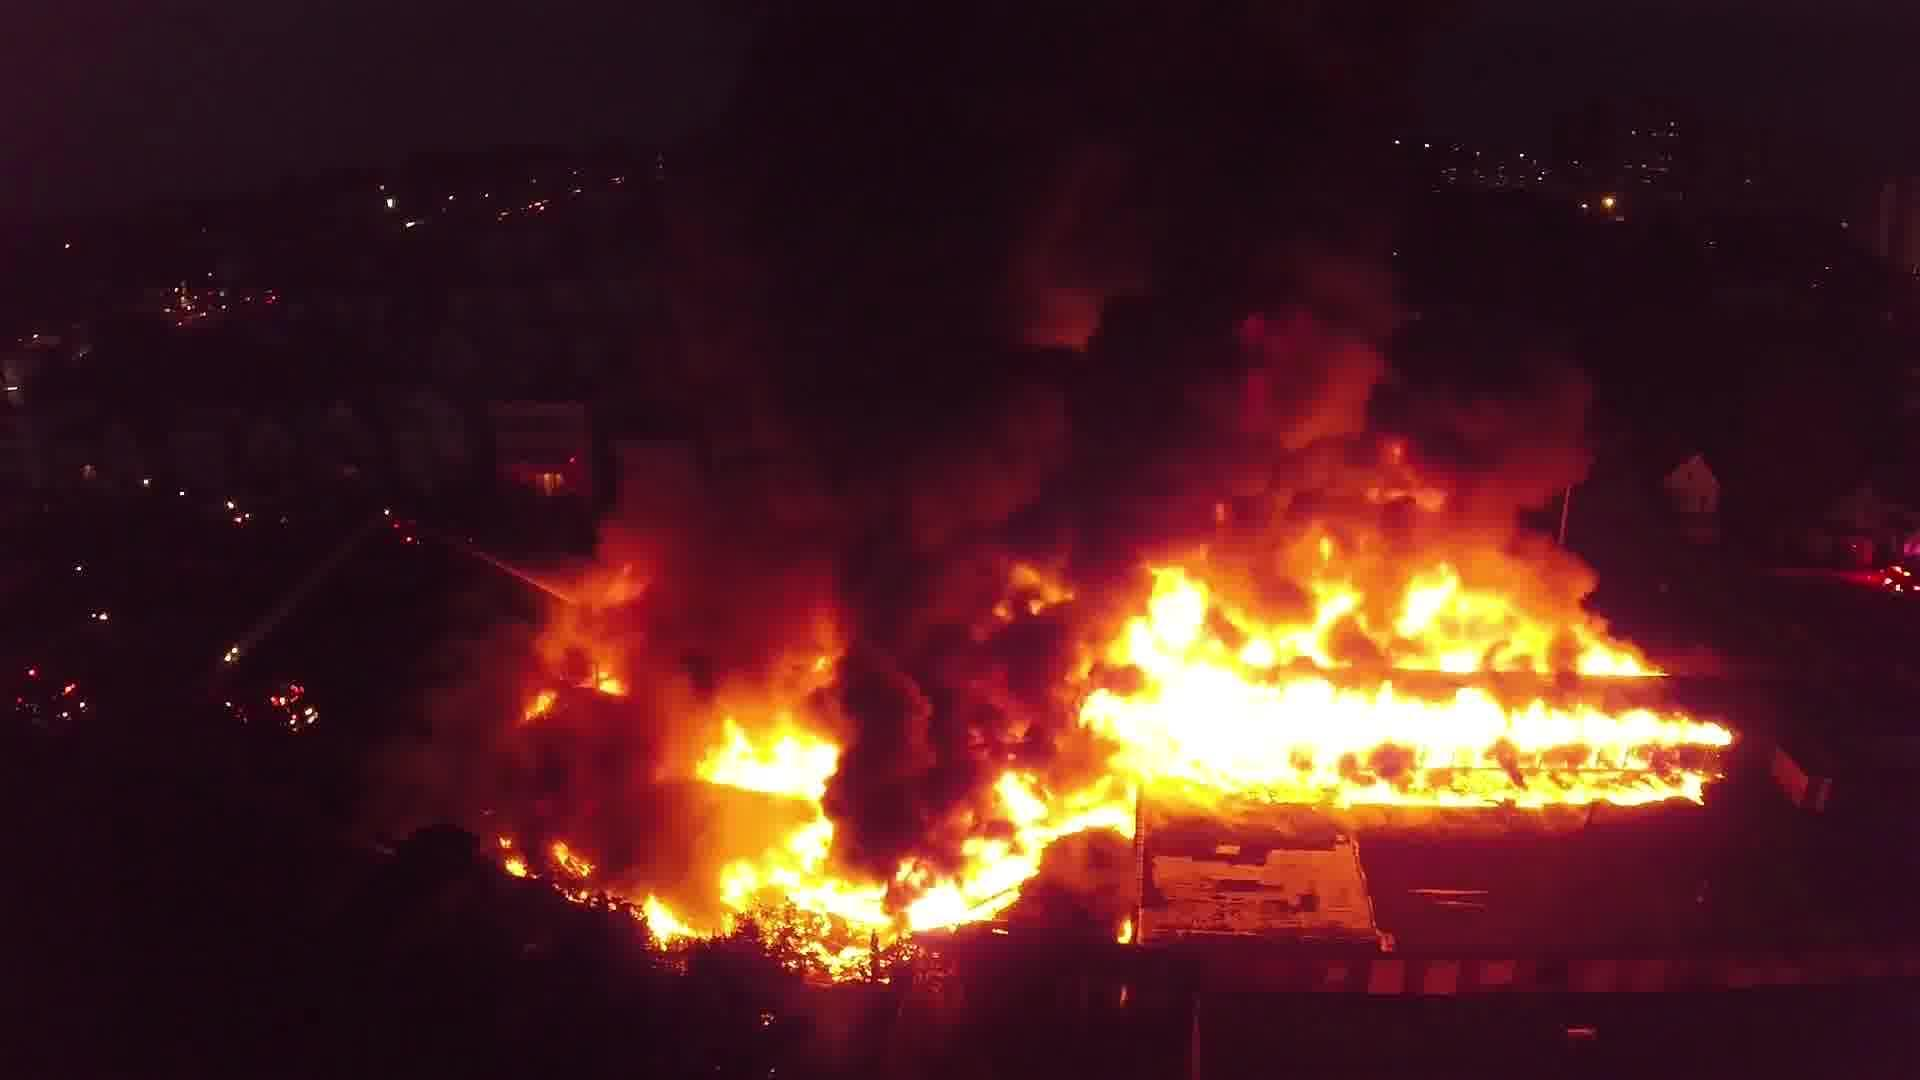fire: (548, 538, 1719, 916)
